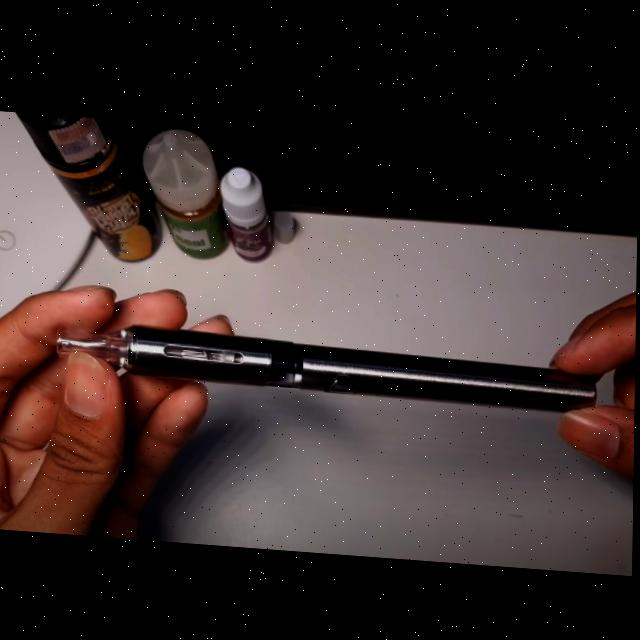vape: (56, 316, 600, 407)
